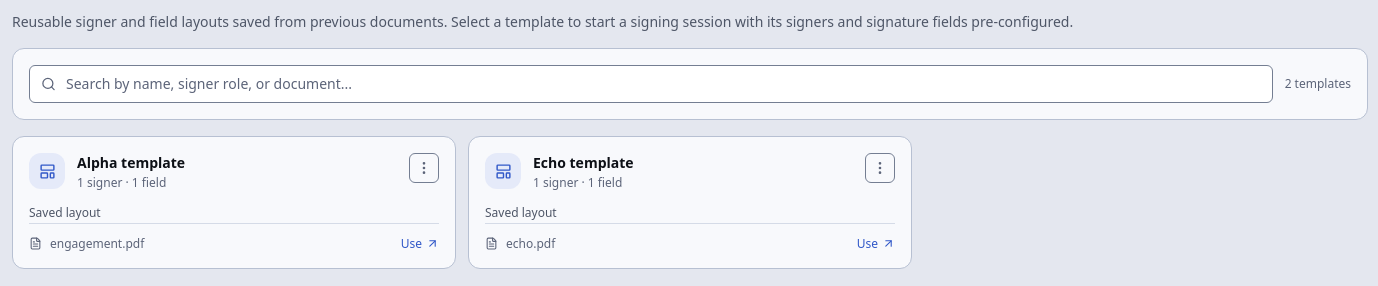
it: SigningTemplateGrid › filters the grid by the search term
The width and height of the screenshot is (1378, 286).
Type "Echo" into the field named "search signing templates". click: {"x": 651, "y": 84}
box: [29,65,1273,103]
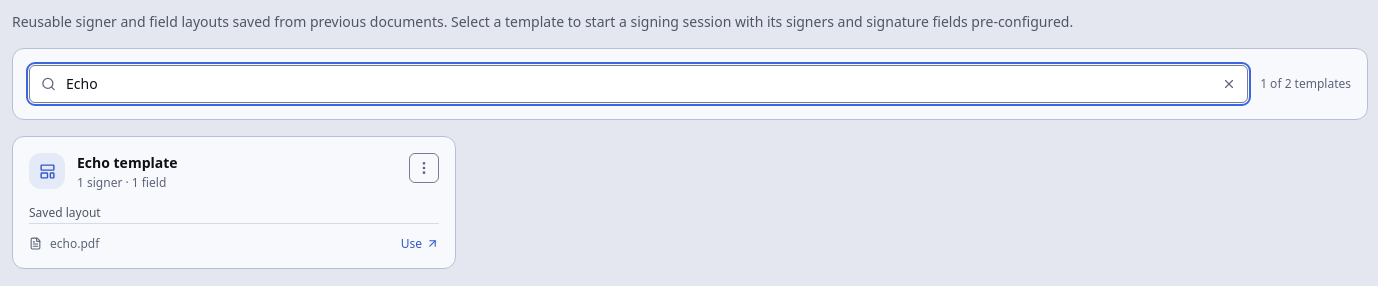
Check: the text "Echo template" is shown, box [77,153,178,172]
Check: the button "Alpha template" is gone
Check: the text "1 of 2 templates" is shown, box [1260,76,1351,92]
